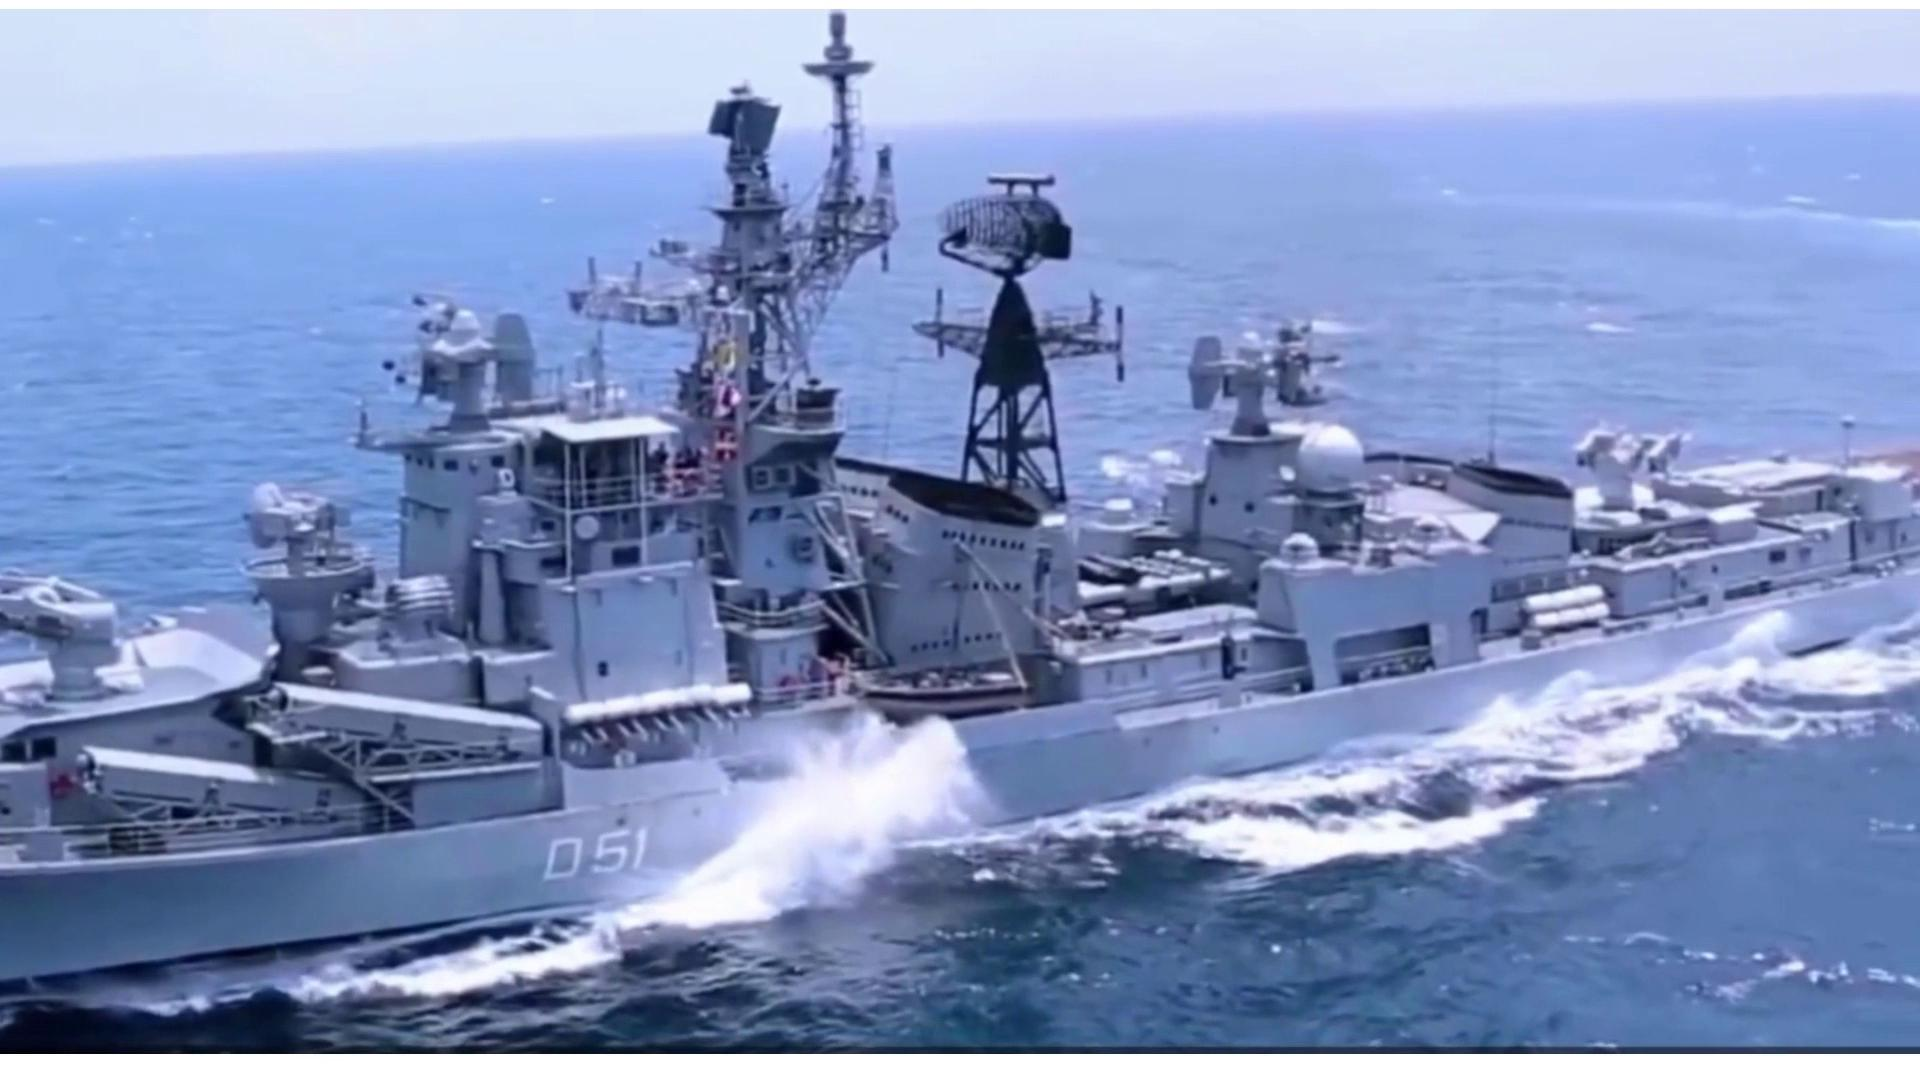OCR: (510, 808, 662, 895)
